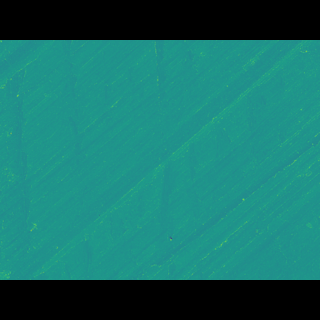Loch: (156, 146, 207, 200)
